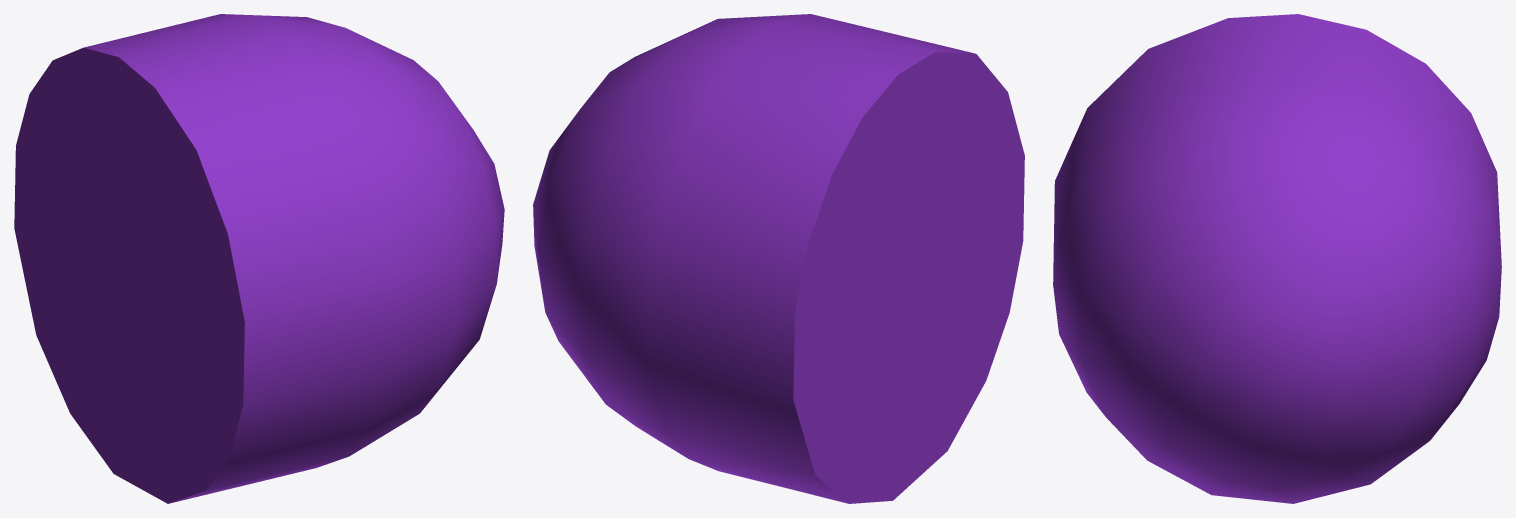
File: bala_insanium.obj
3 renders of one model, left to right at view 1: azimuth 30°, elevation 25°; view 2: azimuth 150°, elevation 25°; view 3: azimuth 270°, elevation 25°, orthographic. The views are drawn at different scales.
Bounding box in the file's own units: 0.0392 × 0.0447 × 0.0448.
